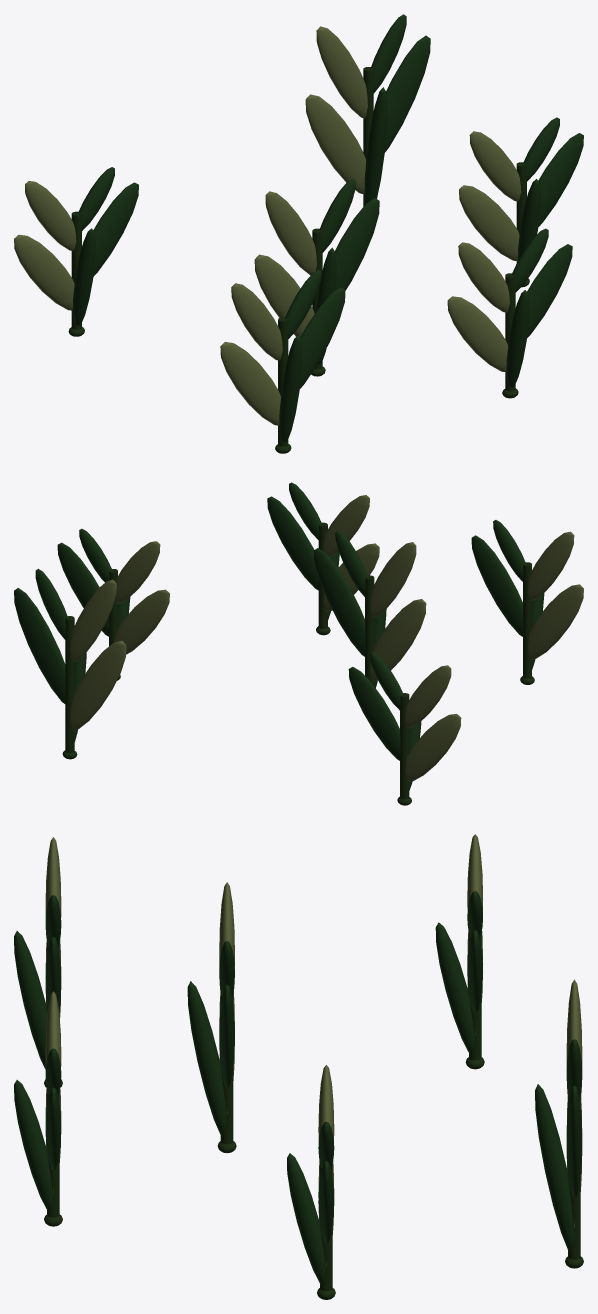
The model's file is CMU3DRMCGrassd1.glb.
3 views of the same model, one above another, from view 1: azimuth 30°, elevation 25°; view 2: azimuth 150°, elevation 25°; view 3: azimuth 270°, elevation 25° (orthographic). The views are drawn at different scales.
Parts seen in each view (by area): view 1: blade clump 1 fork leaf 0, blade clump 4 fork leaf 0, blade clump 1 fork leaf 1, blade clump 5 fork leaf 0, blade clump 0 fork leaf 0, blade clump 2 fork leaf 0, blade clump 1 fork leaf 2, blade clump 3 fork leaf 2, blade clump 3 fork leaf 1, blade clump 4 fork leaf 1, blade clump 4 fork leaf 2, blade clump 2 fork leaf 1 (+22 smaller); view 2: blade clump 1 fork leaf 1, blade clump 1 fork leaf 0, blade clump 3 fork leaf 1, blade clump 4 fork leaf 1, blade clump 4 fork leaf 0, blade clump 3 fork leaf 0, blade clump 0 fork leaf 1, blade clump 0 fork leaf 0, blade clump 5 fork leaf 1, blade clump 1 fork leaf 2, blade clump 2 fork leaf 0, blade clump 3 fork leaf 2 (+17 smaller); view 3: blade clump 1 forward leaf, blade clump 3 forward leaf, blade clump 5 forward leaf, blade clump 0 forward leaf, blade clump 2 forward leaf, blade clump 4 forward leaf, blade clump 1 fork leaf 1, blade clump 3 fork leaf 1, blade clump 5 fork leaf 1, blade clump 2 fork leaf 1, blade clump 0 fork leaf 1, blade clump 4 fork leaf 1 (+11 smaller).
Part boxes in pixels (x1,y1,x2,y2): blade clump 1 fork leaf 0: (305, 94, 365, 194); blade clump 4 fork leaf 0: (220, 342, 280, 425); blade clump 1 fork leaf 1: (385, 35, 430, 152); blade clump 5 fork leaf 0: (447, 296, 507, 372); blade clump 0 fork leaf 0: (14, 234, 74, 310); blade clump 2 fork leaf 0: (459, 185, 519, 261); blade clump 1 fork leaf 2: (316, 26, 367, 118); blade clump 3 fork leaf 2: (265, 191, 316, 275); blade clump 3 fork leaf 1: (335, 198, 379, 290); blade clump 4 fork leaf 1: (300, 287, 345, 388); blade clump 4 fork leaf 2: (231, 283, 282, 360); blade clump 2 fork leaf 1: (538, 133, 583, 226); blade clump 1 fork leaf 1: (14, 588, 65, 703); blade clump 1 fork leaf 0: (70, 641, 126, 730); blade clump 3 fork leaf 1: (313, 548, 365, 656); blade clump 4 fork leaf 1: (471, 535, 523, 636); blade clump 4 fork leaf 0: (528, 584, 583, 659); blade clump 3 fork leaf 0: (370, 599, 426, 681); blade clump 0 fork leaf 1: (348, 667, 400, 760); blade clump 0 fork leaf 0: (405, 714, 461, 781); blade clump 5 fork leaf 1: (267, 496, 318, 590); blade clump 1 fork leaf 2: (70, 579, 116, 662); blade clump 2 fork leaf 0: (114, 589, 169, 654); blade clump 3 fork leaf 2: (370, 542, 416, 617); blade clump 1 forward leaf: (535, 1084, 573, 1250); blade clump 3 forward leaf: (187, 981, 226, 1135); blade clump 5 forward leaf: (14, 1080, 52, 1210); blade clump 0 forward leaf: (435, 922, 474, 1053); blade clump 2 forward leaf: (287, 1153, 325, 1283); blade clump 4 forward leaf: (14, 931, 47, 1069); blade clump 1 fork leaf 1: (566, 1085, 582, 1197); blade clump 3 fork leaf 1: (219, 985, 234, 1086); blade clump 5 fork leaf 1: (45, 1087, 61, 1170); blade clump 2 fork leaf 1: (318, 1160, 334, 1243); blade clump 0 fork leaf 1: (467, 930, 482, 1012); blade clump 4 fork leaf 1: (45, 936, 61, 1011).
Bounding box in the file's own units: 0.9112 × 0.36 × 0.718.
